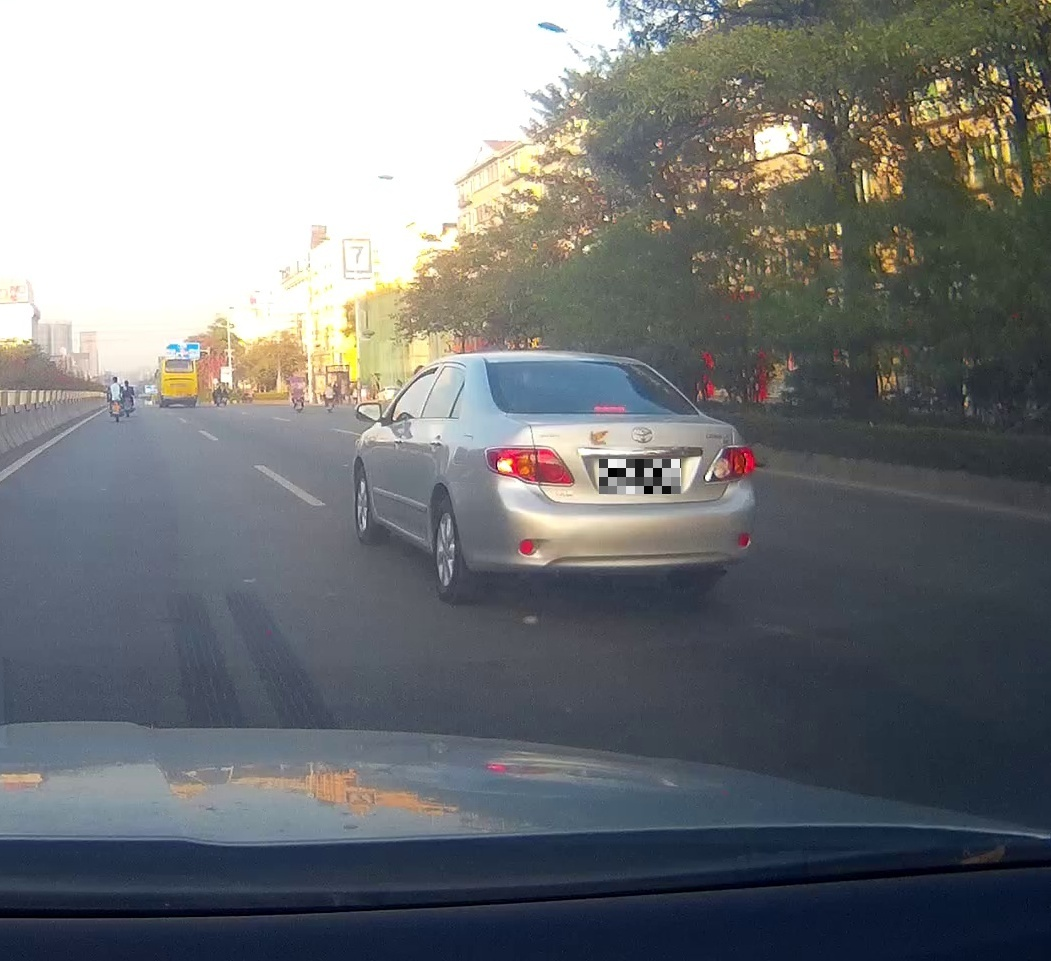L_light: (482, 444, 578, 487)
R_light: (702, 444, 757, 483)
T_light: (590, 404, 626, 416)
day-left: (478, 351, 763, 604)
plate_1: (599, 459, 681, 494)
